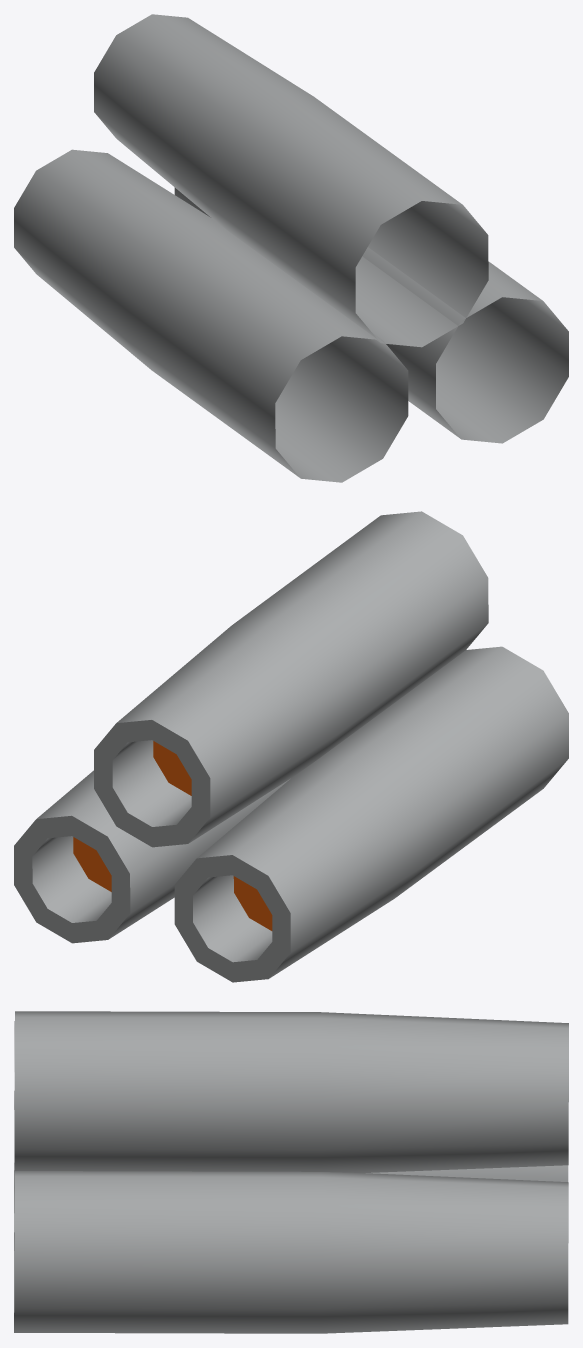
File: Car_06_Pipe_Cool.fbx
3 views of the same model, one above another, from view 1: azimuth 30°, elevation 25°; view 2: azimuth 150°, elevation 25°; view 3: azimuth 270°, elevation 25° (orthographic). The views are drawn at different scales.
Visible parts, largest first — view 1: Car_06_Pipe_Cool; view 2: Car_06_Pipe_Cool; view 3: Car_06_Pipe_Cool.
Boxes of the visible parts, bbox=[...] form: Car_06_Pipe_Cool: bbox=[14, 14, 568, 482]; Car_06_Pipe_Cool: bbox=[14, 511, 568, 982]; Car_06_Pipe_Cool: bbox=[14, 1011, 568, 1333].
Bounding box in the file's own units: 34.42 × 54.91 × 29.46.
